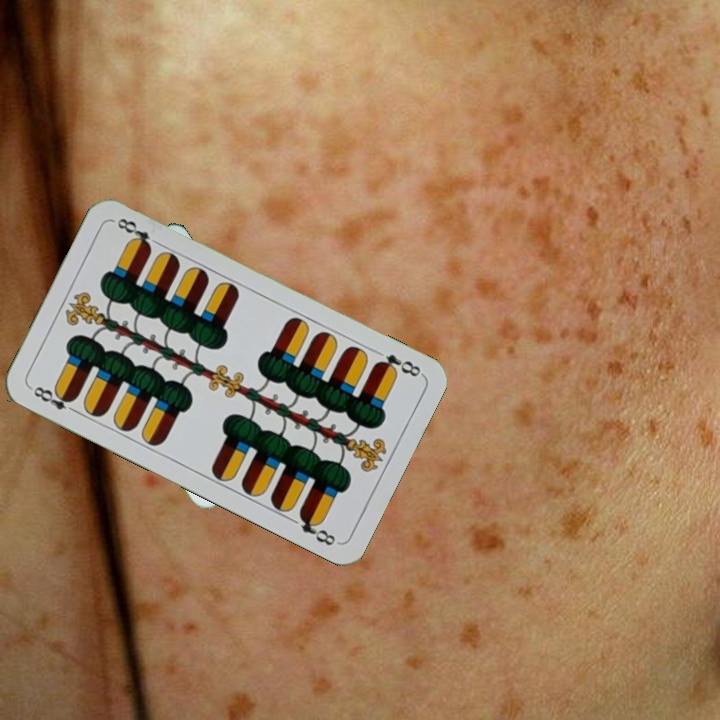E8: (26, 381, 81, 416), (371, 350, 424, 380)
